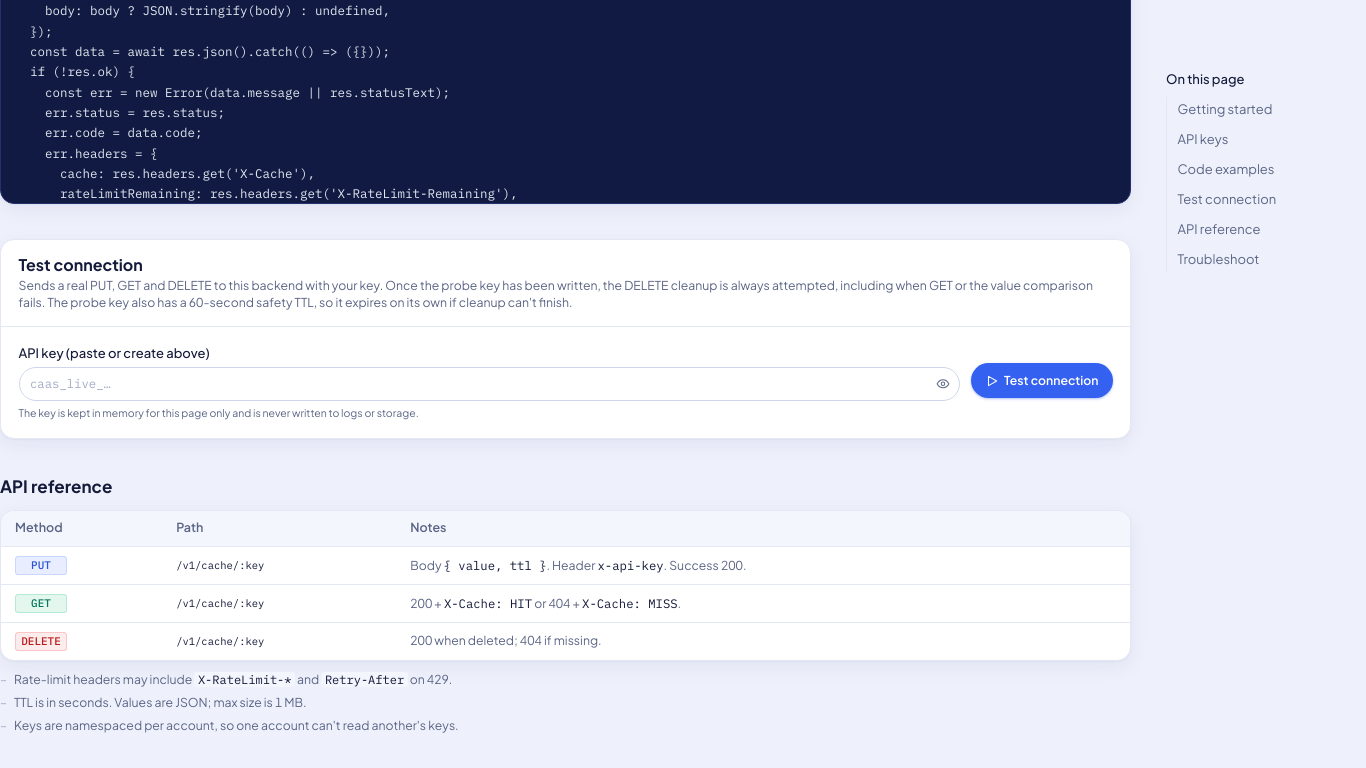
Test case: Integrate Test Connection stepper › reflects real step outcomes and skips cleanup when PUT fails
(page scrolled)
Type "caas_live_abc" into the password field labelled "API key (paste or create above)" at (489,384), box [18, 367, 960, 401]
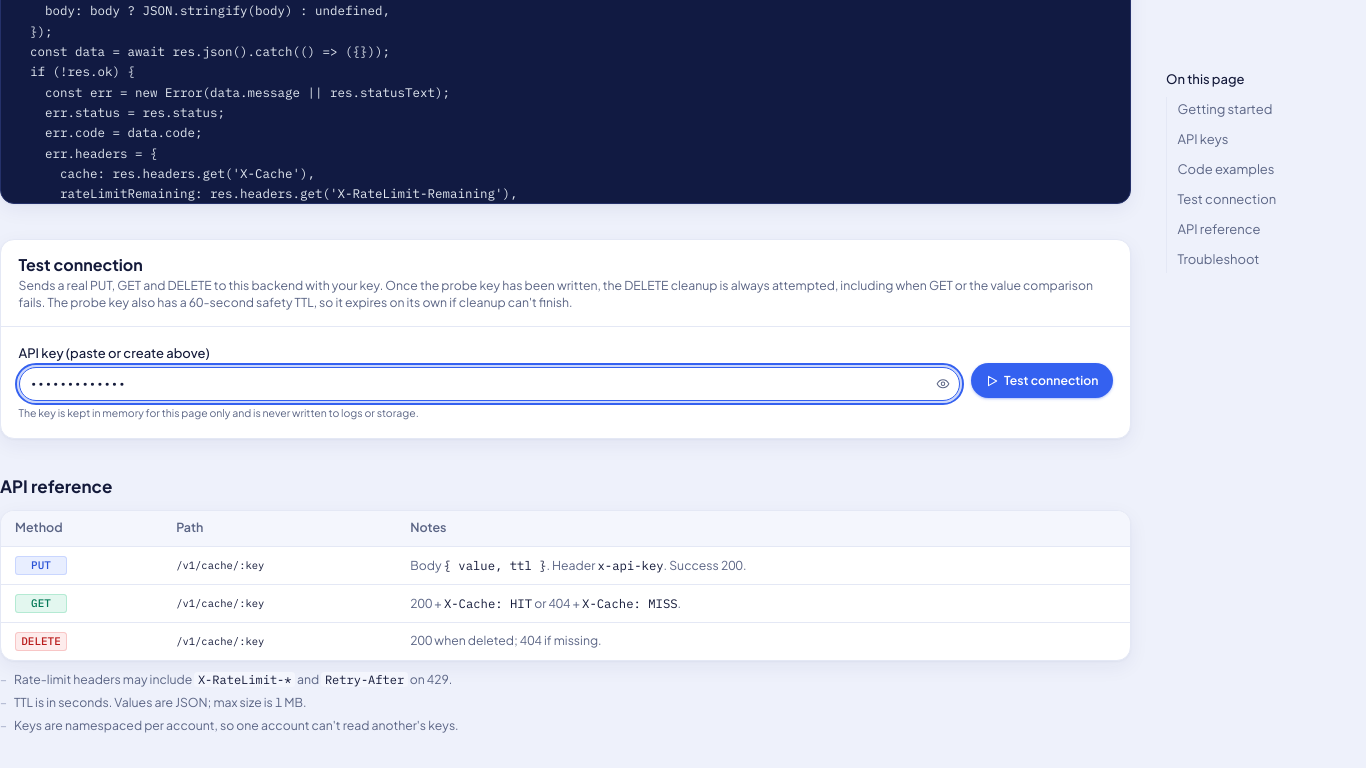
Click the button "Test connection" at (1042,380), box [971, 363, 1112, 398]
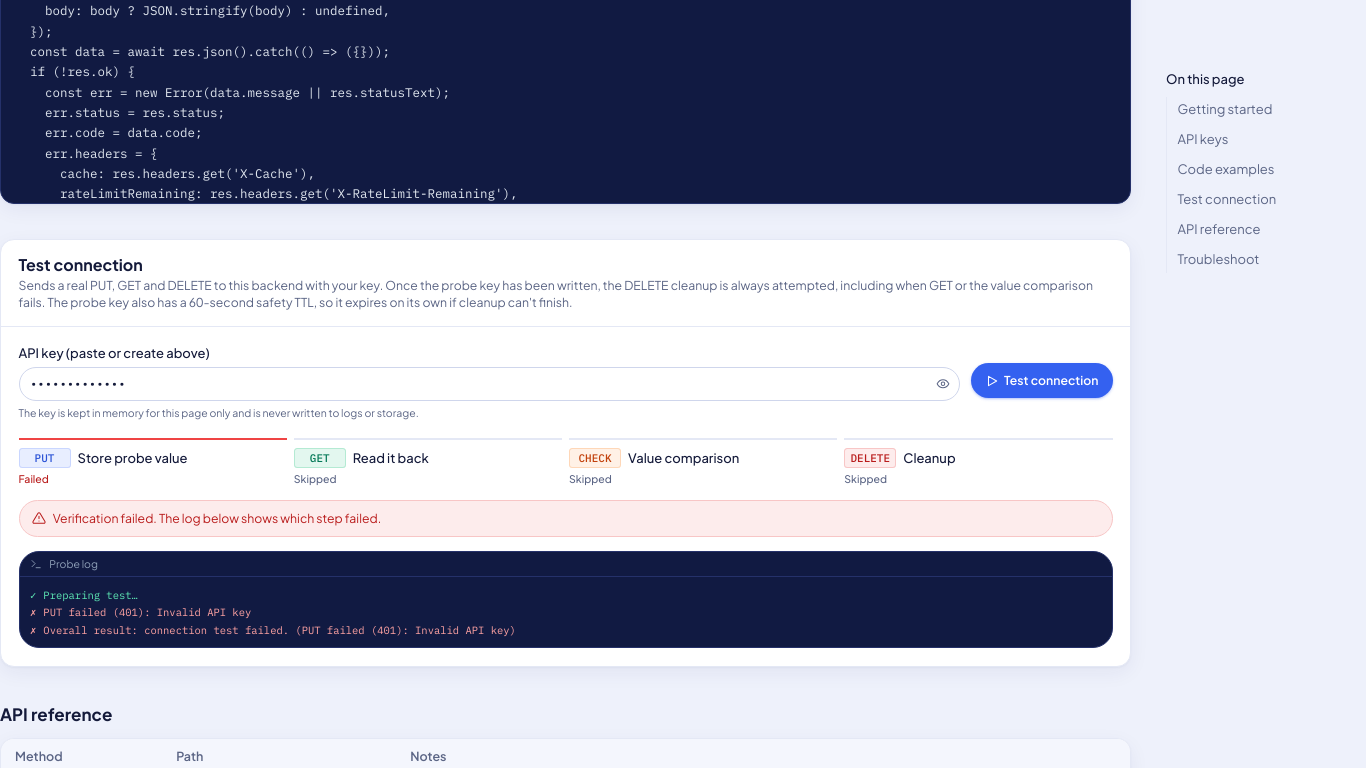
expect the text "Failed" is shown once: met, box [18, 472, 49, 485]
expect the text "Skipped" is shown 3 times: met, box [294, 472, 336, 485]; [569, 472, 612, 485]; [844, 472, 887, 485]
expect the text "Verification failed. The log below shows which step failed." is shown: met, box [18, 500, 1112, 537]
